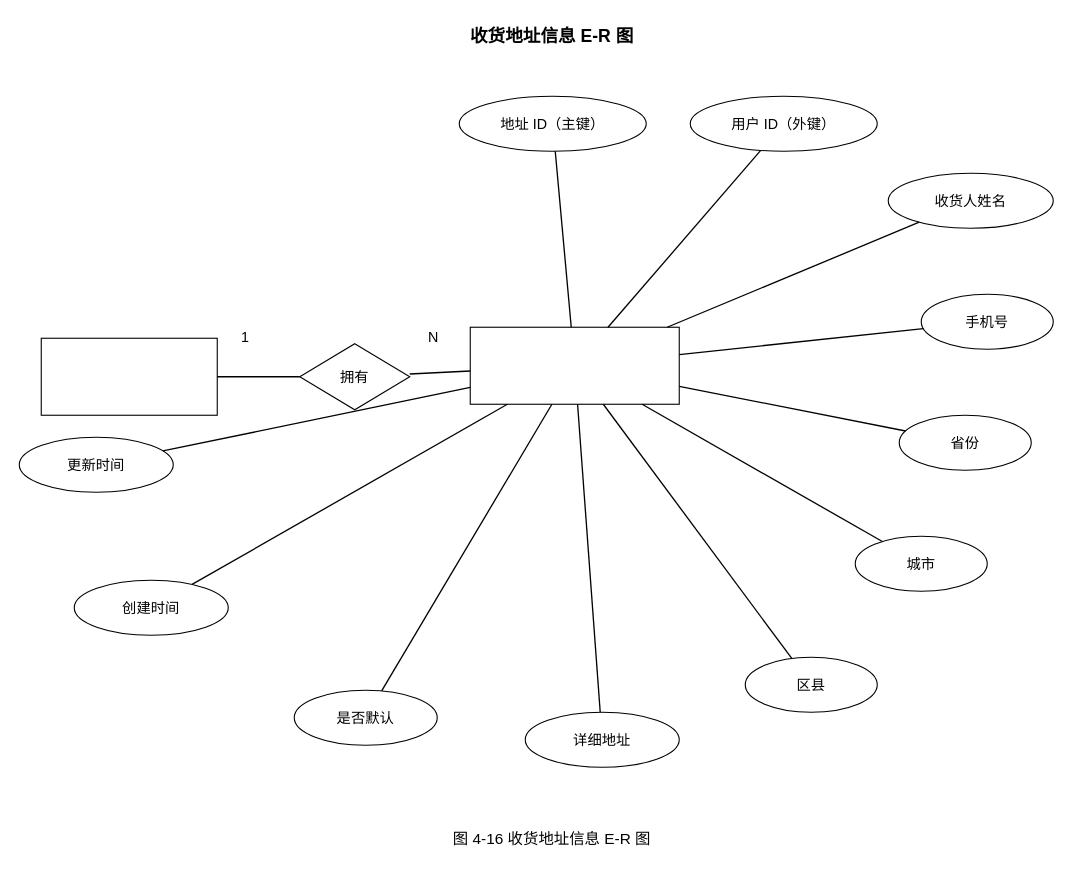
The diagram is 1073 pixels wide and 873 high, and some of its shapes have lost their labels. Each missing label, with the centre of its shape:
收货地址信息: (574,365)
用户信息: (128,376)
